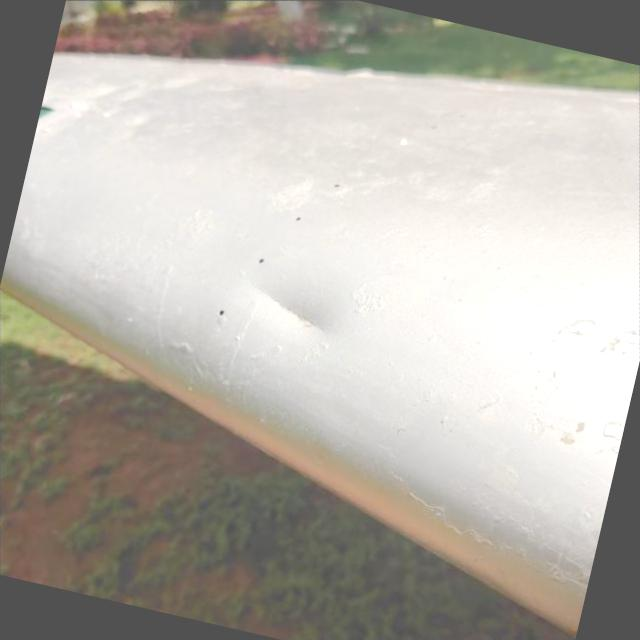dent: (224, 248, 369, 364)
